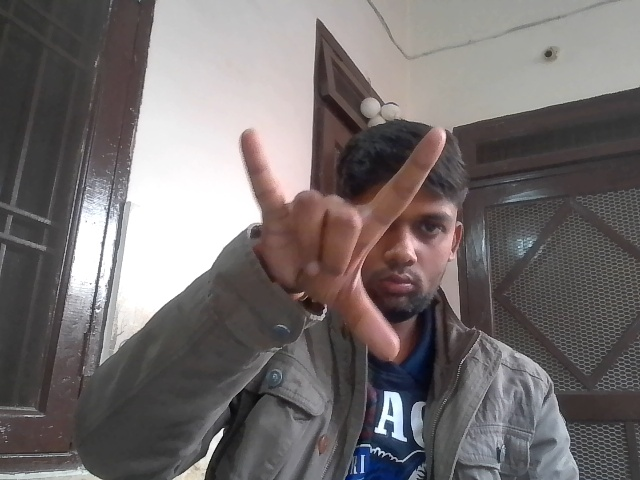ILoveYou: (226, 114, 462, 372)
